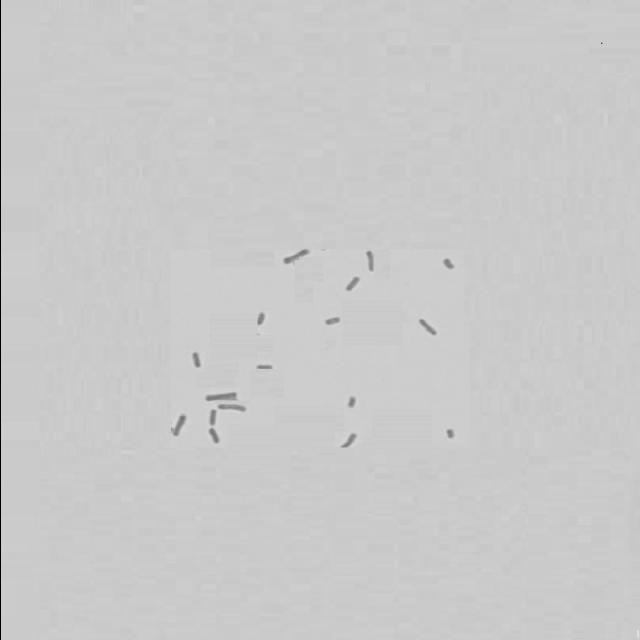E-coli: (281, 249, 313, 265), (415, 315, 438, 337), (169, 413, 191, 435), (198, 391, 240, 402), (336, 430, 359, 450), (361, 249, 377, 275), (342, 276, 364, 292), (188, 349, 204, 371), (319, 315, 344, 329), (436, 258, 460, 271), (252, 312, 272, 327), (213, 404, 249, 412), (204, 429, 220, 445), (440, 427, 458, 441), (254, 363, 276, 374), (344, 395, 359, 409), (204, 411, 217, 425)
